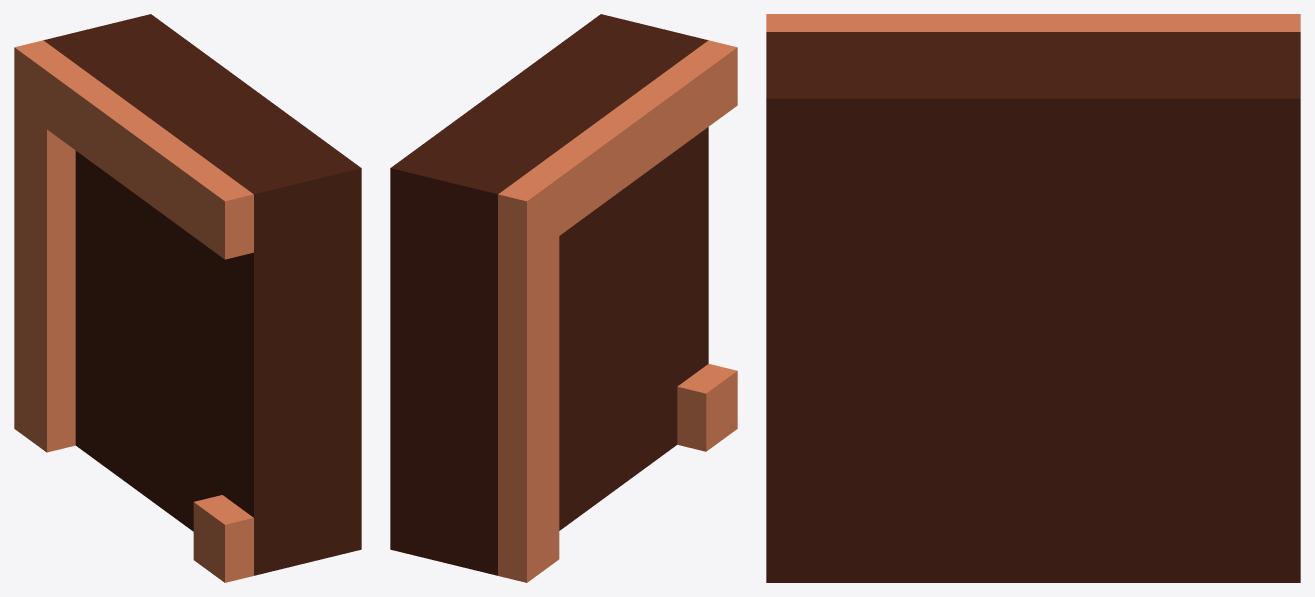
Rendered from Road_corner_ill.One.fbx.
The picture shows the model from 3 angles, left to right: view 1: azimuth 30°, elevation 25°; view 2: azimuth 150°, elevation 25°; view 3: azimuth 270°, elevation 25°; orthographic projection. The views are drawn at different scales.
Parts seen in each view (by area): view 1: Cube.014; view 2: Cube.014; view 3: Cube.014.
Boxes of the visible parts, bbox=[...] form: Cube.014: bbox=[14, 14, 361, 582]; Cube.014: bbox=[390, 14, 737, 582]; Cube.014: bbox=[766, 14, 1300, 582].
Size of the model in its own units: 400 by 400 by 150.
